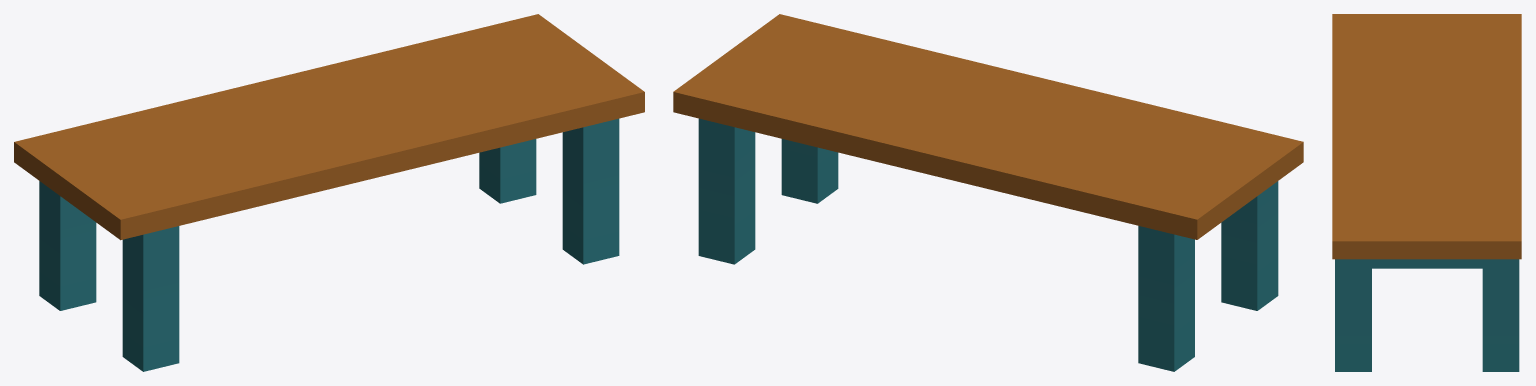
File: Bench_1_E_8.fbx
3 views of the same model, side by side, from view 1: azimuth 30°, elevation 25°; view 2: azimuth 150°, elevation 25°; view 3: azimuth 270°, elevation 25° (orthographic). The views are drawn at different scales.
Parts seen in each view (by area): view 1: Bench_1_E_8; view 2: Bench_1_E_8; view 3: Bench_1_E_8.
Part boxes in pixels (left/top/right/bottom): Bench_1_E_8: left=14, top=14, right=644, bottom=371; Bench_1_E_8: left=673, top=14, right=1303, bottom=371; Bench_1_E_8: left=1332, top=14, right=1521, bottom=371.
Bounding box in the file's own units: 116 × 33.54 × 40.68.
